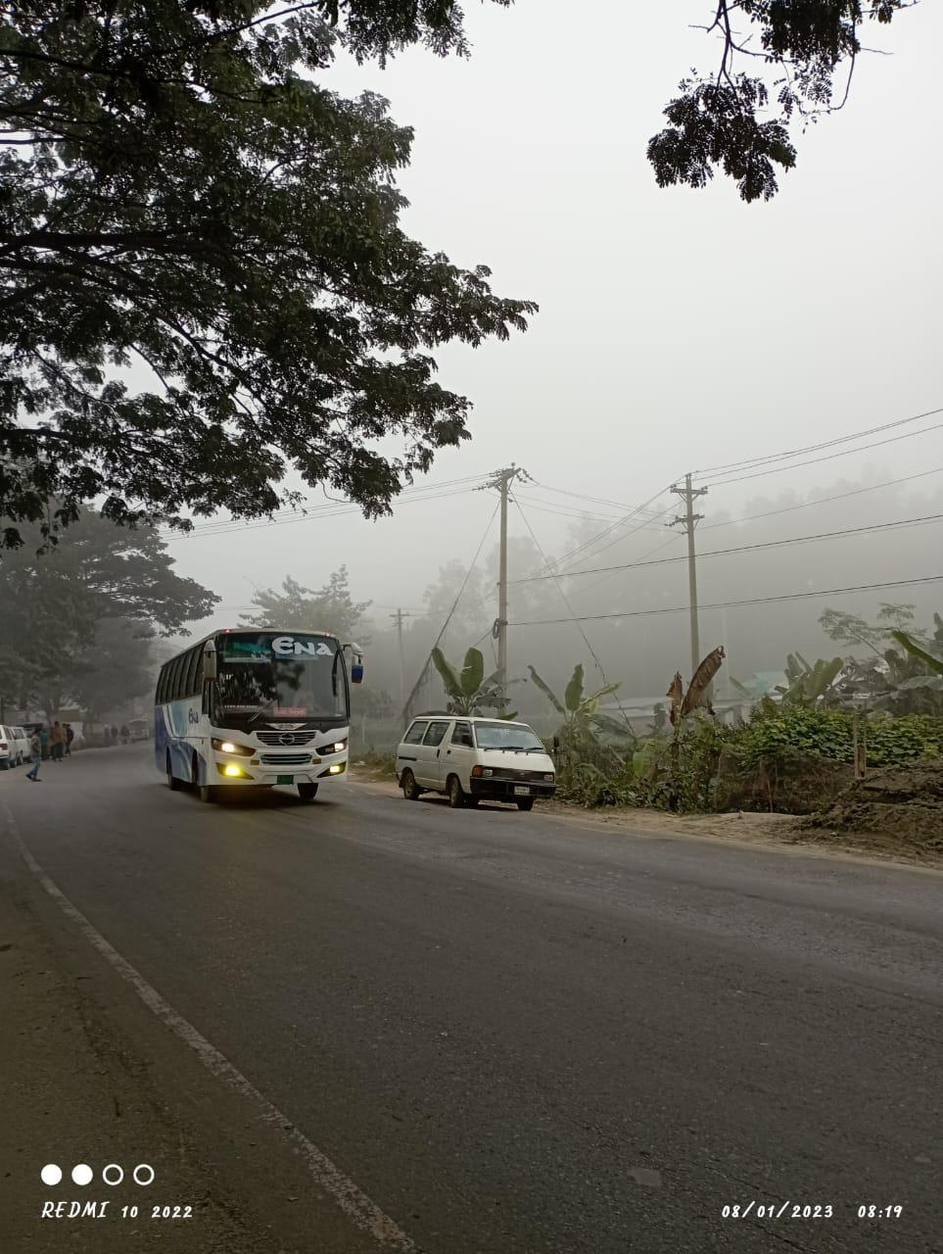Bus: (151, 620, 369, 810)
Car: (390, 705, 566, 810)
